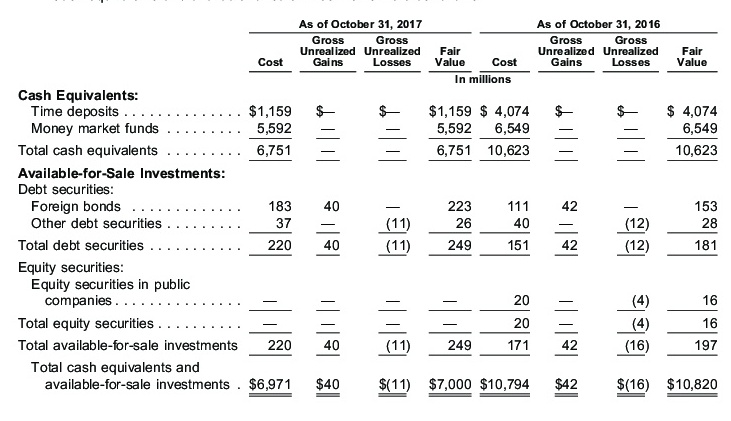table: (0, 0, 731, 421)
